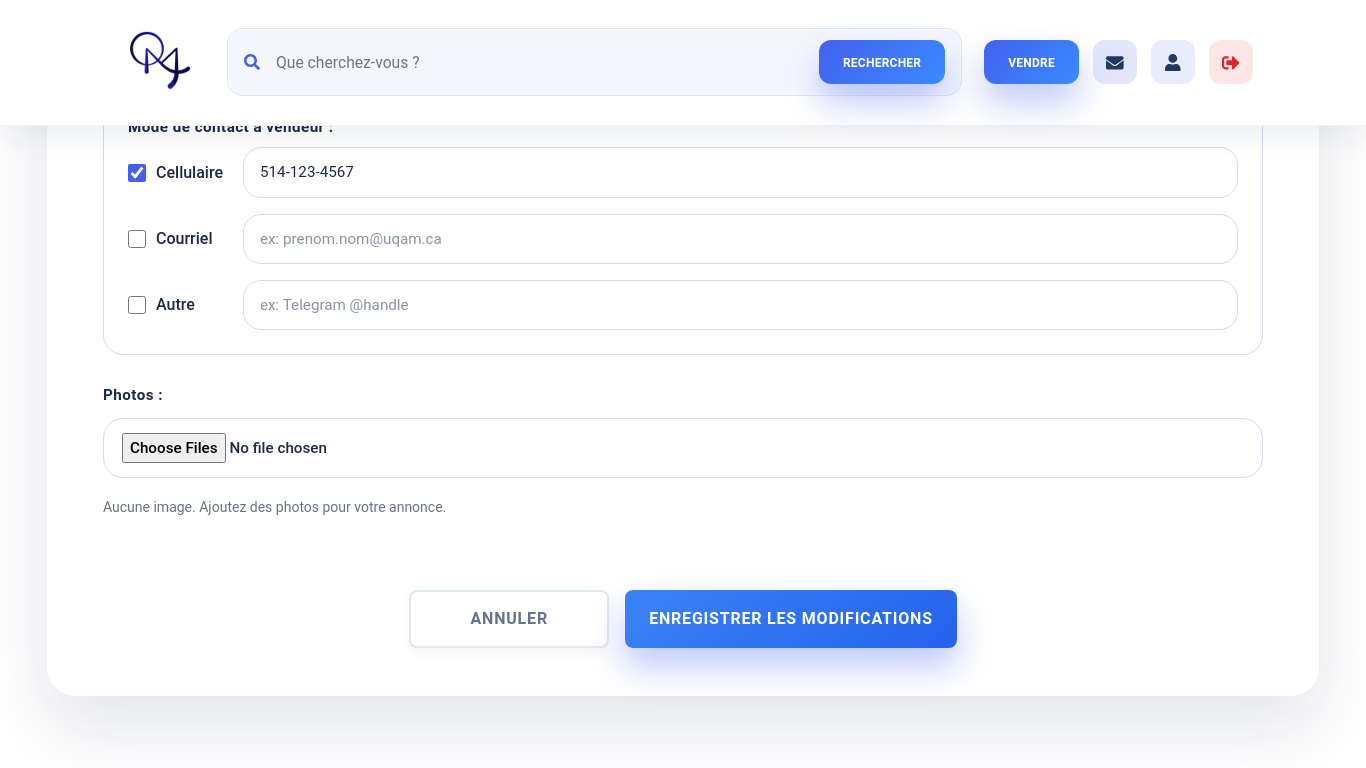
EditListing › validates condition selection
The width and height of the screenshot is (1366, 768).
(page scrolled)
Click the button "Enregistrer les modifications": click(791, 619) left=625, top=590, right=957, bottom=648
(page scrolled)
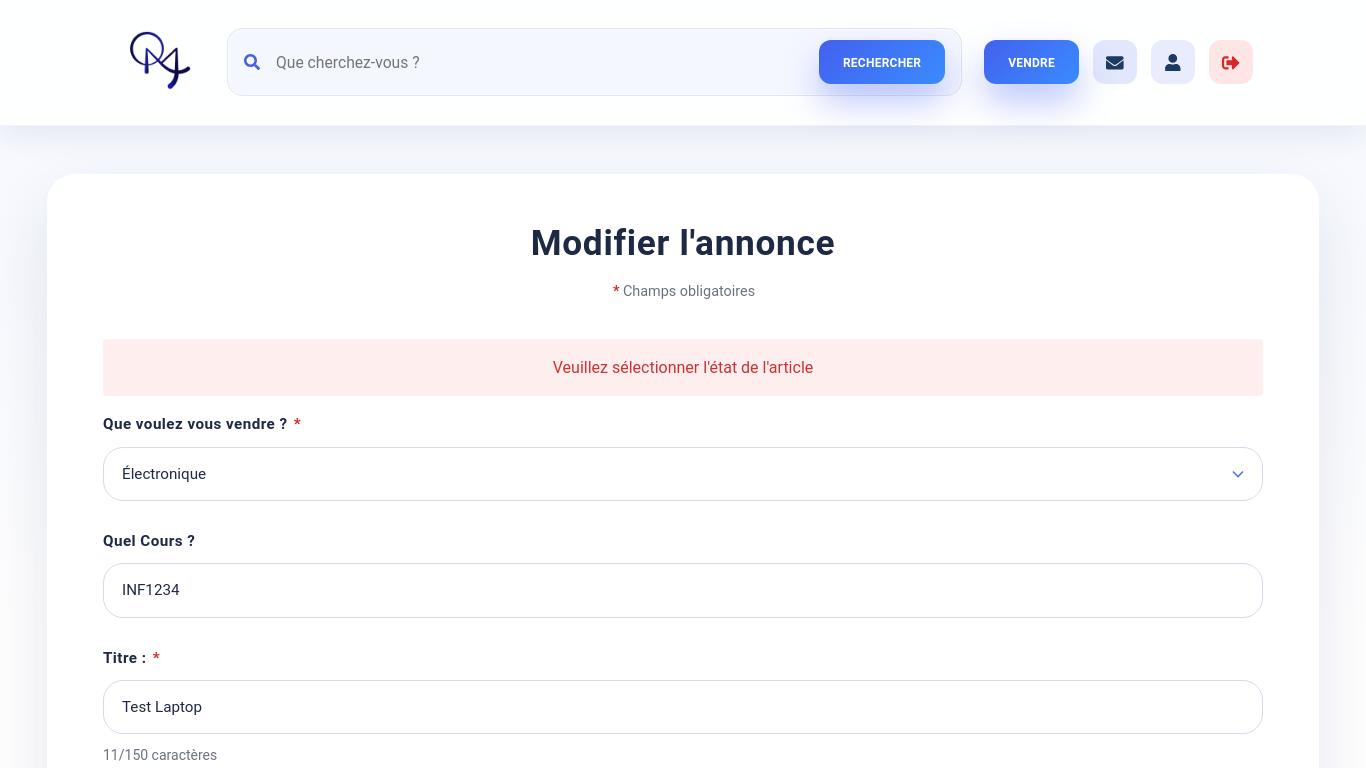
Expected: the text "Veuillez sélectionner l'état de l'article" is shown, left=103, top=339, right=1263, bottom=396
